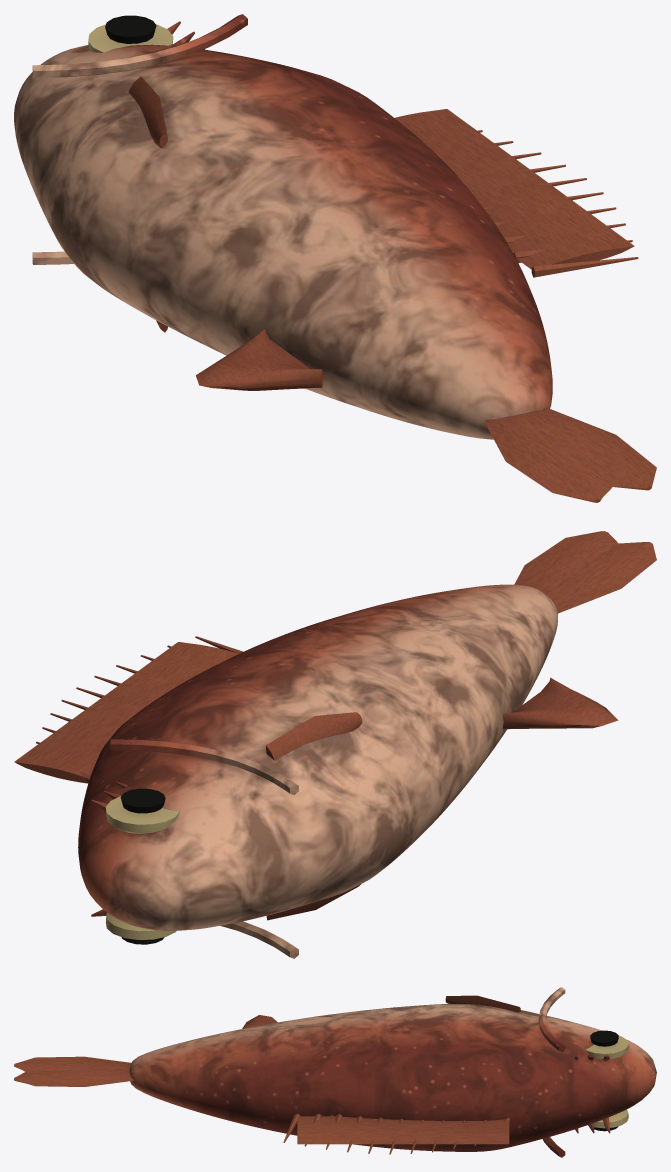
The model's file is fish_yorsh.glb.
The picture shows the model from 3 angles, top to bottom: view 1: azimuth 30°, elevation 25°; view 2: azimuth 150°, elevation 25°; view 3: azimuth 270°, elevation 25°; orthographic projection. The views are drawn at different scales.
Parts seen in each view (by area): view 1: fish_yorsh; view 2: fish_yorsh; view 3: fish_yorsh.
Part boxes in pixels (x1,y1,x2,y2): fish_yorsh: [14, 14, 656, 502]; fish_yorsh: [14, 531, 656, 958]; fish_yorsh: [14, 987, 656, 1157].
Bounding box in the file's own units: 0.1487 × 0.0624 × 0.2914.
1 material, 1 textured.
